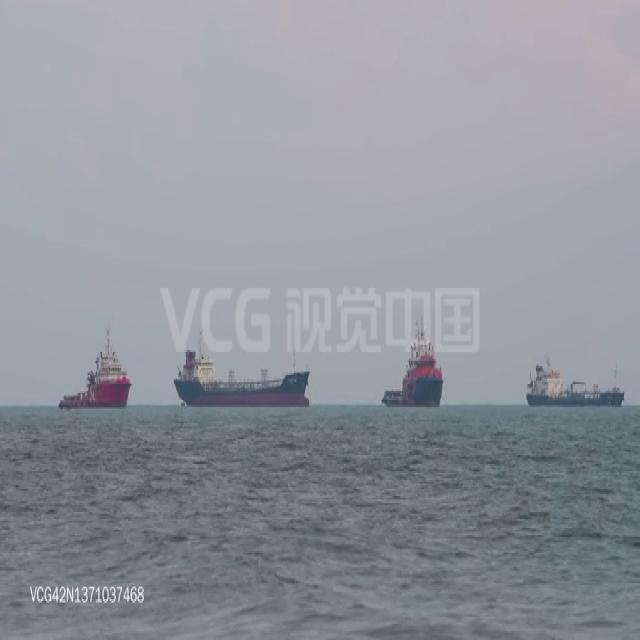cargoship: (171, 339, 313, 406), (53, 329, 129, 405), (381, 323, 445, 406)
